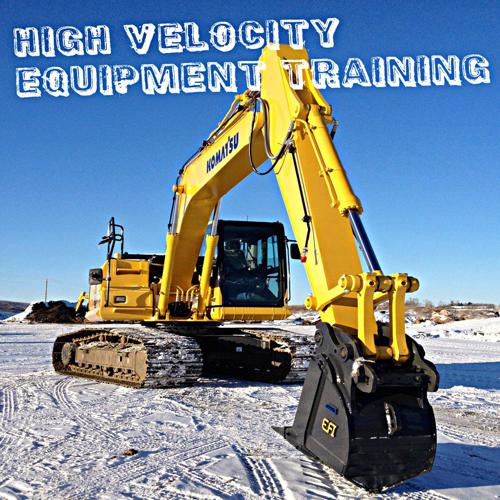con_eq: (64, 46, 442, 487)
